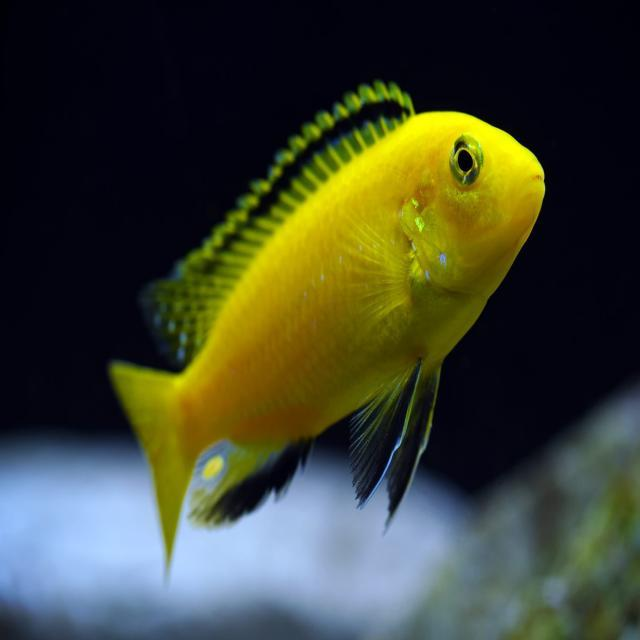YellowCichlid: (102, 72, 552, 584)
